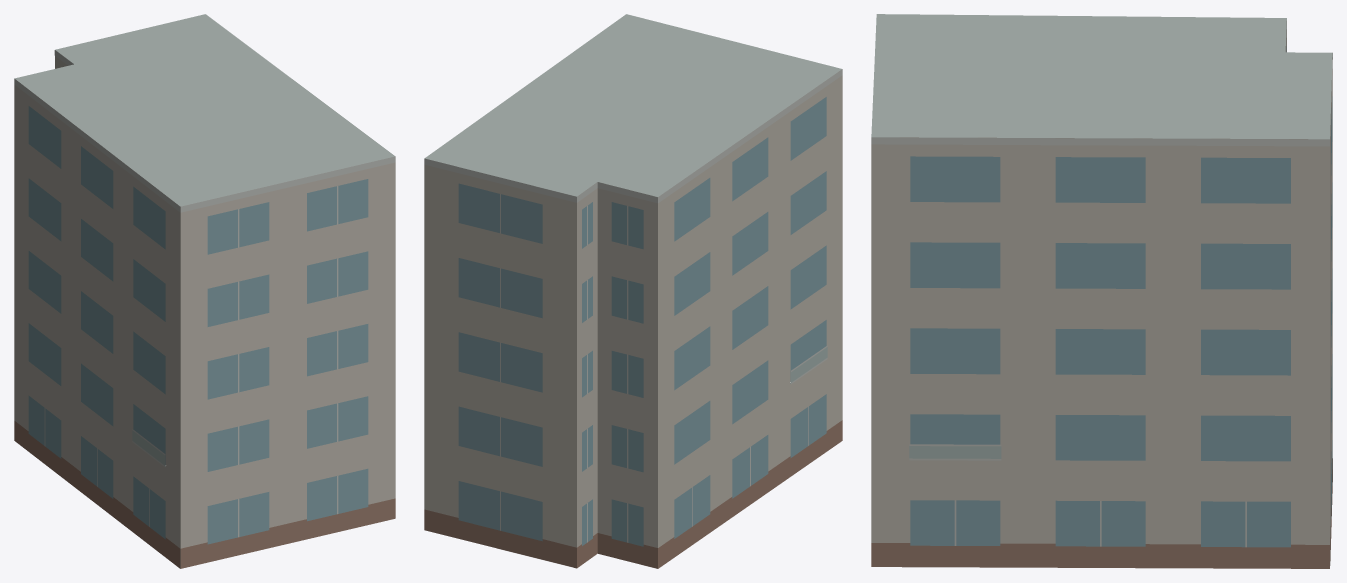
File: survey-upis-32840265.glb
The picture shows the model from 3 angles, left to right: view 1: azimuth 30°, elevation 25°; view 2: azimuth 150°, elevation 25°; view 3: azimuth 270°, elevation 25°; orthographic projection. The views are drawn at different scales.
Parts seen in each view (by area): view 1: survey-upis-32840265.tmp; view 2: survey-upis-32840265.tmp; view 3: survey-upis-32840265.tmp.
Boxes of the visible parts, x1=… form: survey-upis-32840265.tmp: x1=14, y1=14, x2=395, y2=568; survey-upis-32840265.tmp: x1=424, y1=14, x2=842, y2=568; survey-upis-32840265.tmp: x1=871, y1=14, x2=1332, y2=568.
Bounding box in the file's own units: 9.14 × 14.6 × 14.22.
